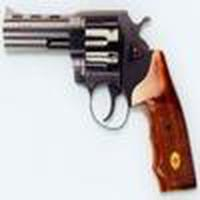gun: (1, 6, 200, 195)
